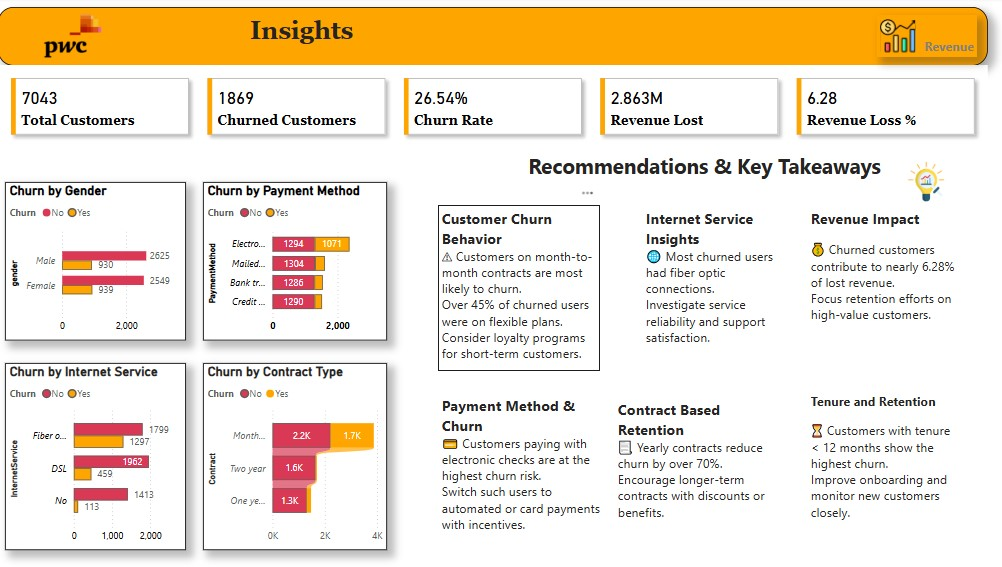

Layout of this report page (visuals, bound fields, positions):
{"tool":"powerbi","page":{"name":"Insights","canvas":[1280,720],"ordinal":2},"visuals":[{"type":"textbox","box":[527.1,195.4,739.1,514.8],"z":0},{"type":"textbox","box":[0,12.4,1280,75.7],"z":1000},{"type":"cardVisual","fields":{"Data":["All Measures.Total Customers","All Measures.Churned Customers","All Measures.Churn Rate","All Measures.Revenue Lost","All Measures.Revenue Loss %"]},"box":[0,88.1,1280,107.4],"z":2000},{"type":"image","box":[27.5,12.4,140.4,75.7],"z":3000},{"type":"clusteredBarChart","title":"Churn by Gender","fields":{"Category":["Churn-Dataset.gender"],"Series":["Churn-Dataset.Churn"],"Y":["CountNonNull(Churn-Dataset.customerID)"]},"box":[9.6,239.5,234,205.1],"z":4000},{"type":"clusteredBarChart","title":"Churn by Internet Service","fields":{"Series":["Churn-Dataset.Churn"],"Y":["CountNonNull(Churn-Dataset.customerID)"],"Category":["Churn-Dataset.InternetService"]},"box":[9.6,473.5,234,242.2],"z":5000},{"type":"barChart","title":"Churn by Payment Method","fields":{"Series":["Churn-Dataset.Churn"],"Y":["CountNonNull(Churn-Dataset.customerID)"],"Category":["Churn-Dataset.PaymentMethod"]},"box":[265.6,239.5,238.1,205.1],"z":6000},{"type":"barChart","title":"Churn by Contract Type","fields":{"Series":["Churn-Dataset.Churn"],"Category":["Churn-Dataset.Contract"],"Y":["CountNonNull(Churn-Dataset.customerID)"]},"box":[265.6,473.5,238.1,242.2],"z":7000},{"type":"textbox","box":[1046,268.4,202.3,188.6],"z":8000},{"type":"textbox","box":[568.4,268.4,210.6,214.7],"z":9000},{"type":"textbox","box":[568.4,510.6,214.7,188.6],"z":10000},{"type":"textbox","box":[1046,506.5,202.3,188.6],"z":11000},{"type":"textbox","box":[832.7,268.4,191.3,205.1],"z":12000},{"type":"textbox","box":[796.9,516.1,227.1,178.9],"z":13000},{"type":"image","box":[1164.4,207.8,72.9,60.6],"z":14000},{"type":"actionButton","title":"Revenue","box":[1136.9,23.4,129.4,53.7],"z":15000}]}

Visuals, with their boxes in screenshot pixels (x1, y1, x2, y2), scaled from the page's 1280x720 canvas onto the 1002x567 screenshot:
textbox: bbox=[413, 154, 991, 559]
textbox: bbox=[0, 10, 1001, 69]
cardVisual - All Measures.Total Customers x All Measures.Churned Customers: bbox=[0, 69, 1001, 154]
image: bbox=[22, 10, 131, 69]
"Churn by Gender" clusteredBarChart: bbox=[8, 189, 191, 350]
"Churn by Internet Service" clusteredBarChart: bbox=[8, 373, 191, 564]
"Churn by Payment Method" barChart: bbox=[208, 189, 394, 350]
"Churn by Contract Type" barChart: bbox=[208, 373, 394, 564]
textbox: bbox=[819, 211, 977, 360]
textbox: bbox=[445, 211, 610, 380]
textbox: bbox=[445, 402, 613, 551]
textbox: bbox=[819, 399, 977, 547]
textbox: bbox=[652, 211, 802, 373]
textbox: bbox=[624, 406, 802, 547]
image: bbox=[912, 164, 969, 211]
"Revenue" actionButton: bbox=[890, 18, 991, 61]
